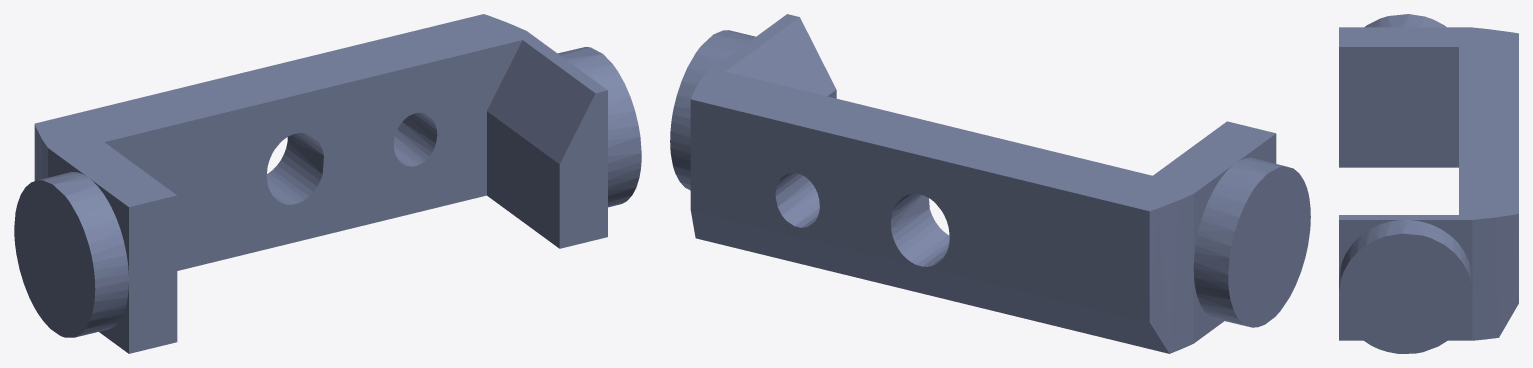
The model's file is i02_head_right_eye_horizontal_visual.obj.full.glb.
The picture shows the model from 3 angles, left to right: view 1: azimuth 30°, elevation 25°; view 2: azimuth 150°, elevation 25°; view 3: azimuth 270°, elevation 25°; orthographic projection. The views are drawn at different scales.
Size of the model in its own units: 0.1838 by 0.0472 by 0.0637.
